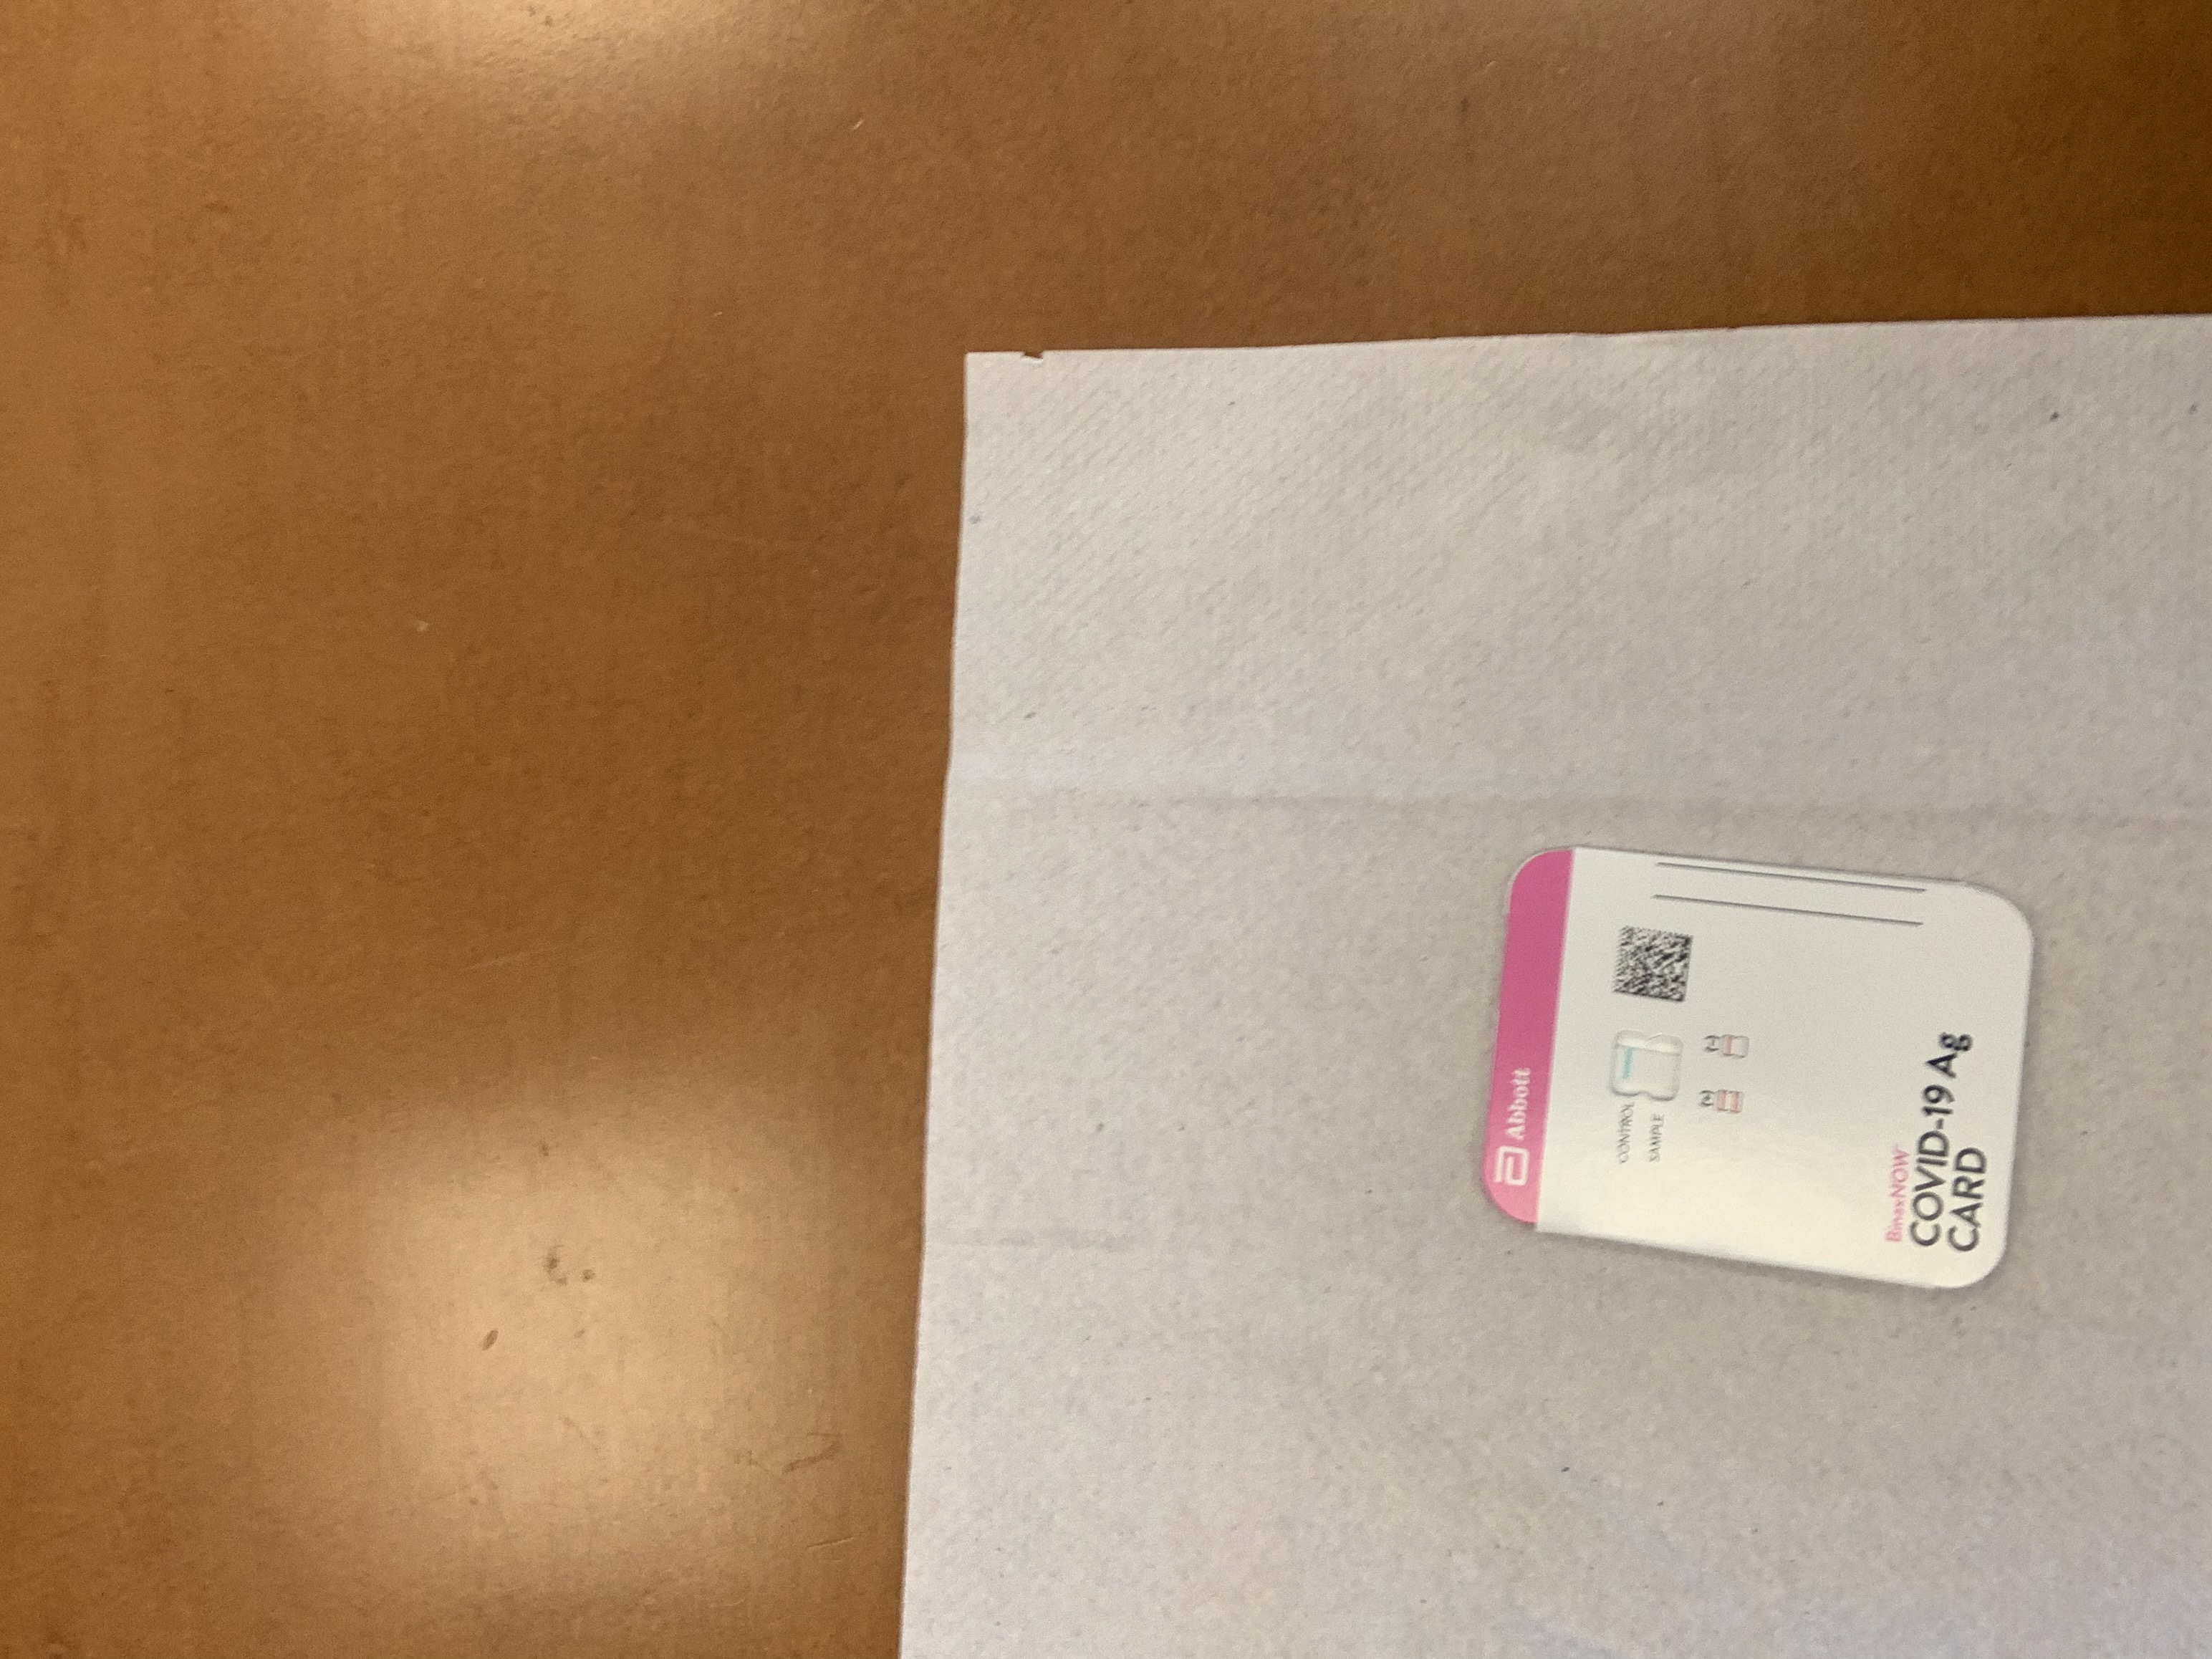binax: (1468, 828, 2048, 1300)
